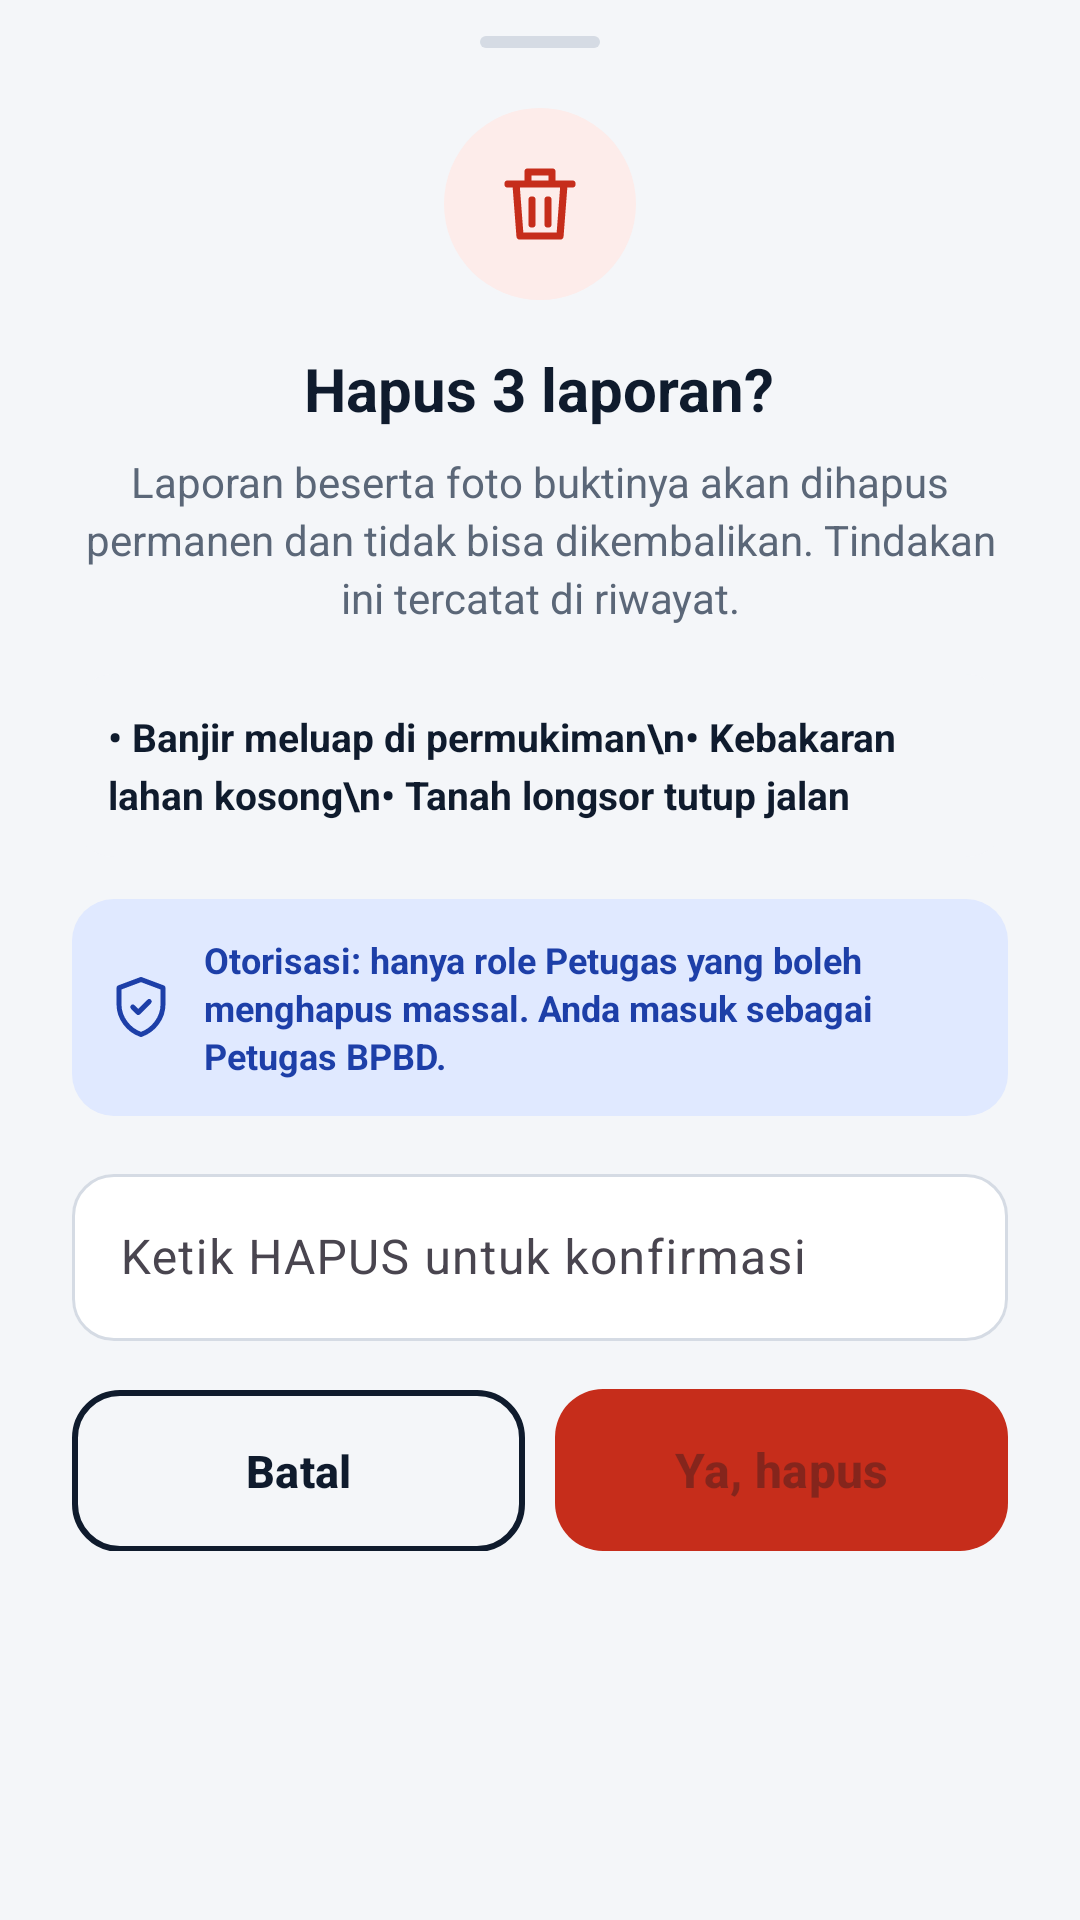

Icon click points for this 1080w x 1920h phone screenshot, format [x,y]:
shield: [141,1007]
trash: [540,204]
